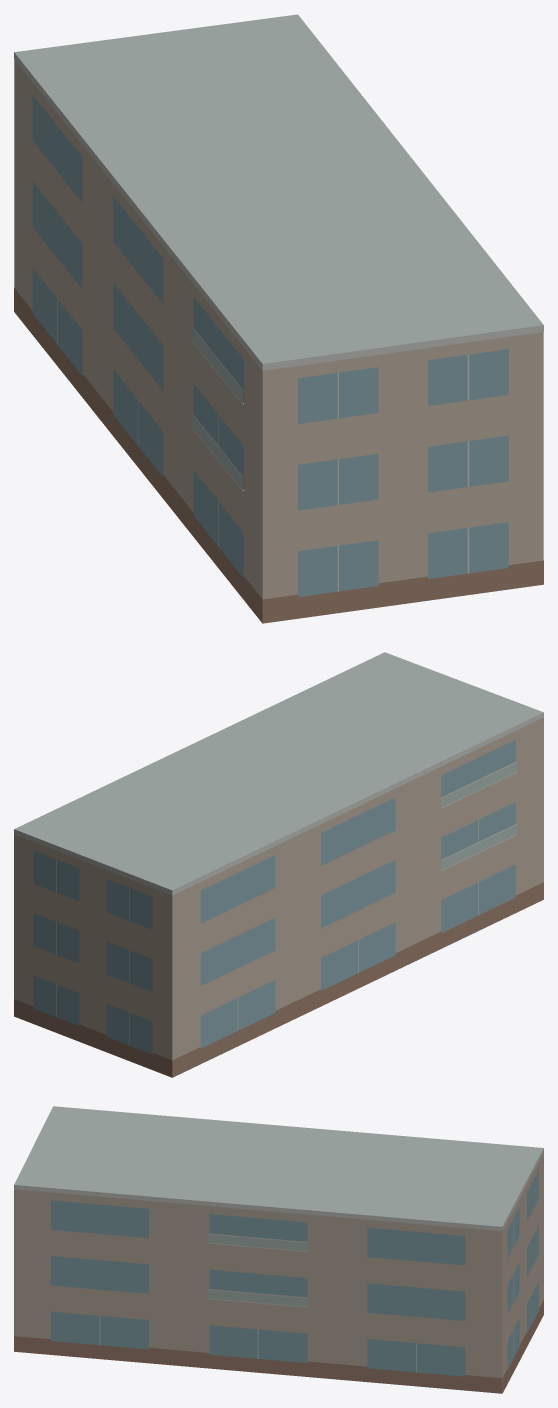
The model's file is survey-upis-32758952.glb.
3 views of the same model, one above another, from view 1: azimuth 30°, elevation 25°; view 2: azimuth 150°, elevation 25°; view 3: azimuth 270°, elevation 25° (orthographic). The views are drawn at different scales.
Parts seen in each view (by area): view 1: survey-upis-32758952.tmp; view 2: survey-upis-32758952.tmp; view 3: survey-upis-32758952.tmp.
Boxes of the visible parts, x1,y1,x2,y2 form: survey-upis-32758952.tmp: (14, 14, 543, 623); survey-upis-32758952.tmp: (14, 652, 543, 1077); survey-upis-32758952.tmp: (14, 1106, 543, 1393).
Size of the model in its own units: 14.21 by 9.15 by 26.34.
